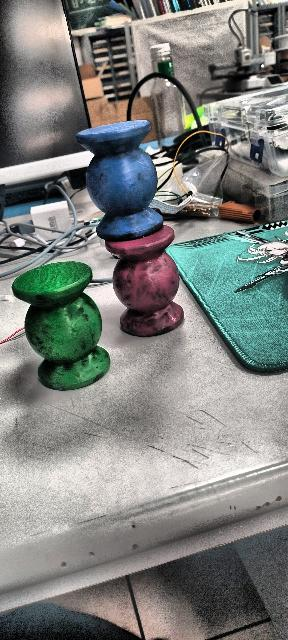blue: (76, 119, 164, 241)
green: (13, 264, 119, 391)
red: (106, 228, 189, 339)
